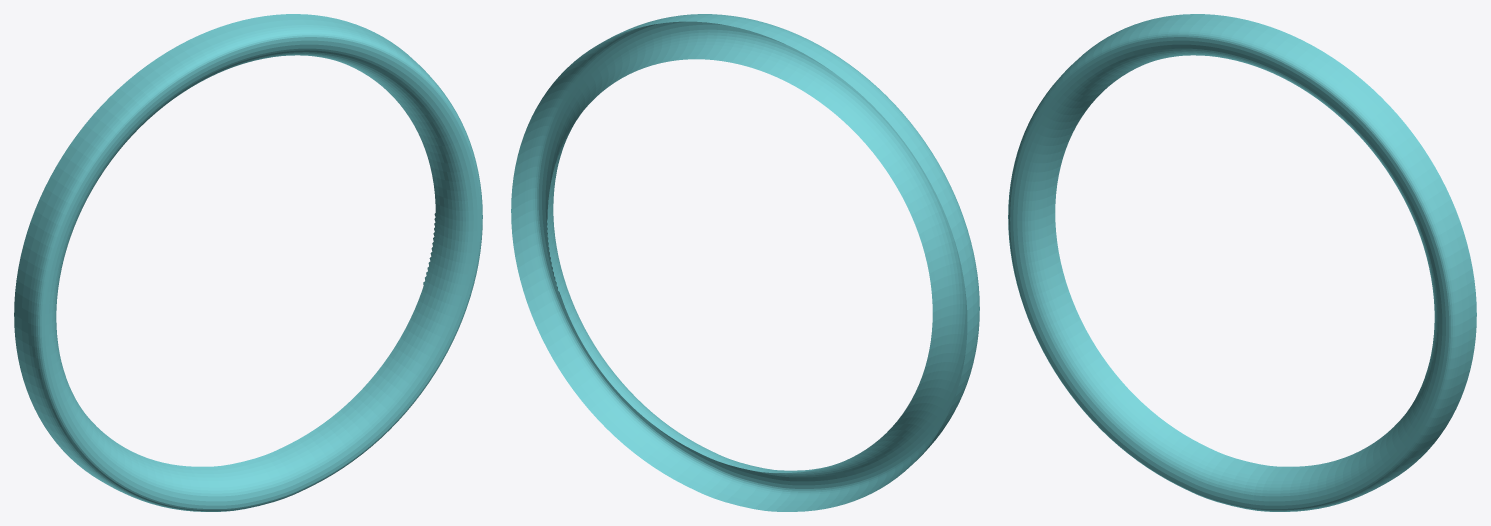
File: plain-ring.fbx
3 views of the same model, side by side, from view 1: azimuth 30°, elevation 25°; view 2: azimuth 150°, elevation 25°; view 3: azimuth 330°, elevation 25° (orthographic).
Visible parts, largest first — view 1: 16046_vn.obj_1; view 2: 16046_vn.obj_1; view 3: 16046_vn.obj_1.
Part boxes in pixels (x1,y1,x2,y2): 16046_vn.obj_1: [14, 14, 482, 511]; 16046_vn.obj_1: [511, 14, 979, 511]; 16046_vn.obj_1: [1008, 14, 1476, 511].
Size of the model in its own units: 1.99 by 2 by 0.1453.
